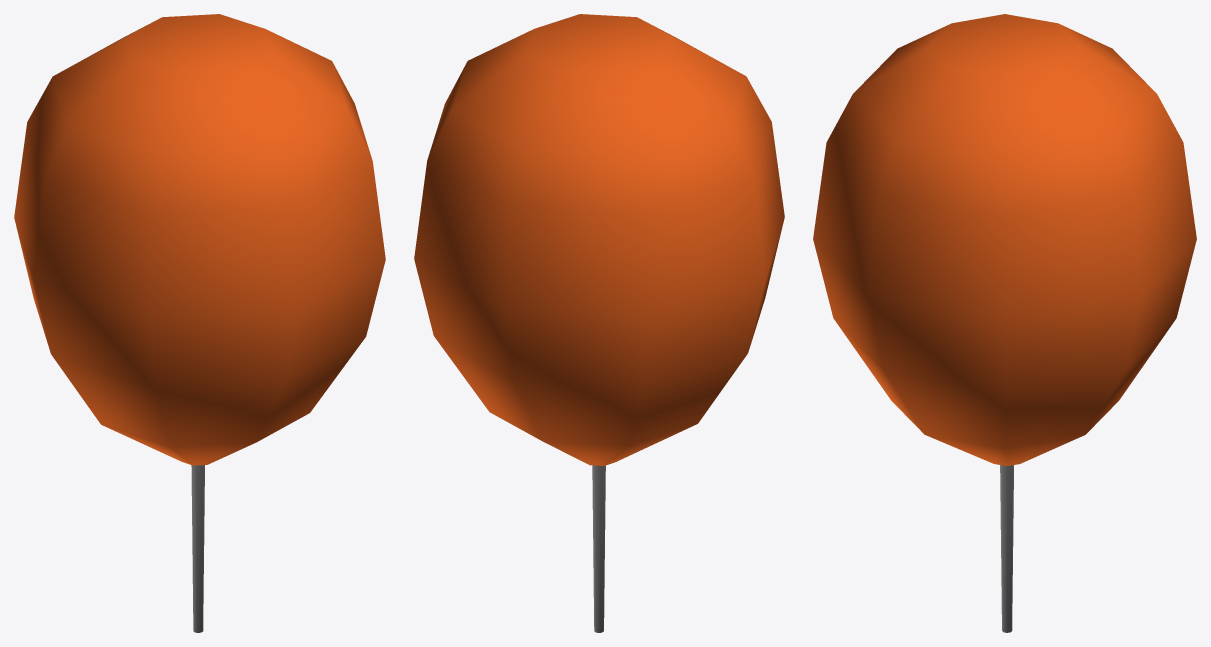
File: Balloon.fbx
3 renders of one model, left to right at view 1: azimuth 30°, elevation 25°; view 2: azimuth 150°, elevation 25°; view 3: azimuth 270°, elevation 25°, orthographic.
Parts seen in each view (by area): view 1: Circle; view 2: Circle; view 3: Circle.
Part boxes in pixels (x1,y1,x2,y2): Circle: (14,14,385,632); Circle: (414,14,784,632); Circle: (813,14,1196,632).
Bounding box in the file's own units: 108 × 182 × 108.
